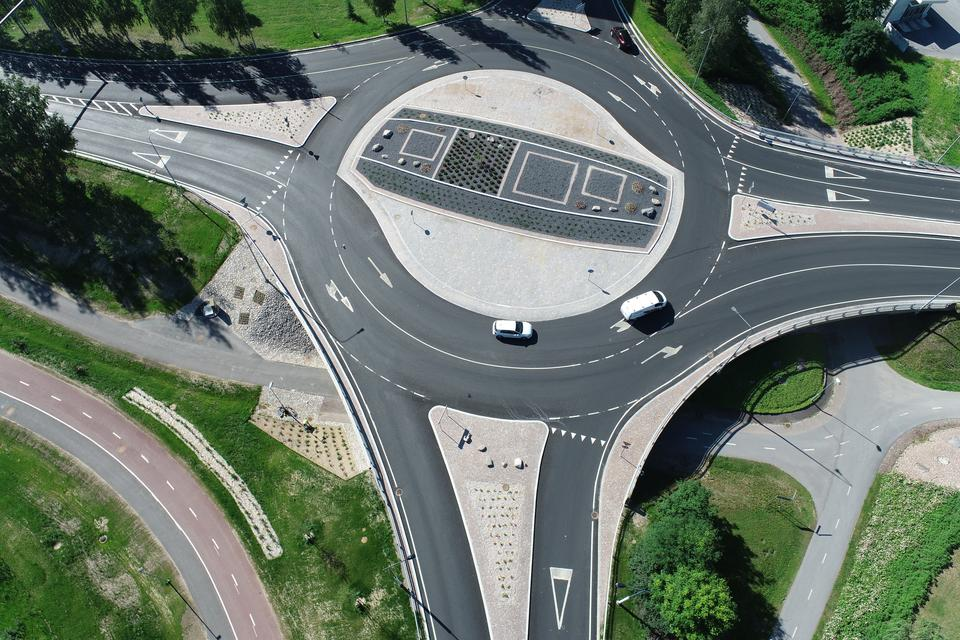roundabout: (241, 0, 774, 504)
